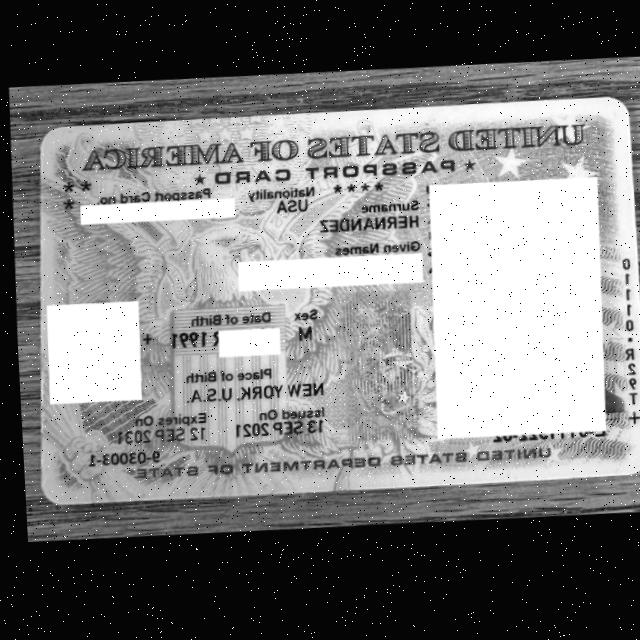card: (40, 98, 639, 504)
